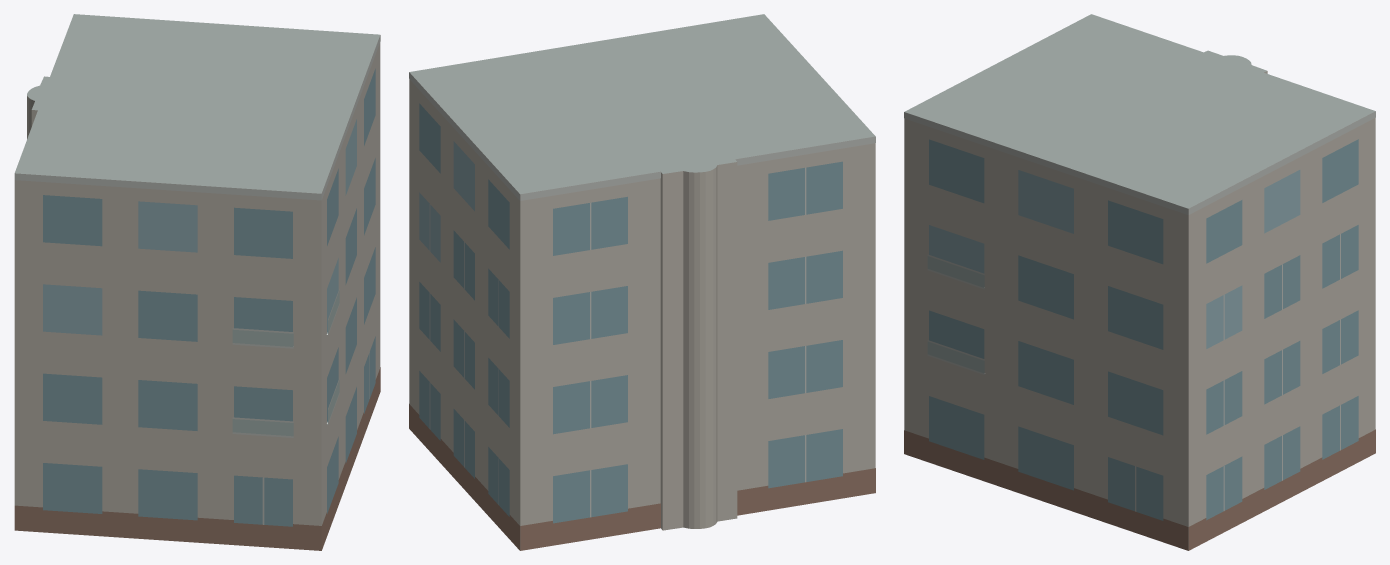
File: survey-upis-32708694.glb
The picture shows the model from 3 angles, left to right: view 1: azimuth 30°, elevation 25°; view 2: azimuth 150°, elevation 25°; view 3: azimuth 270°, elevation 25°; orthographic projection. The views are drawn at different scales.
Parts seen in each view (by area): view 1: survey-upis-32708694.tmp; view 2: survey-upis-32708694.tmp; view 3: survey-upis-32708694.tmp.
Boxes of the visible parts, x1,y1,x2,y2 form: survey-upis-32708694.tmp: (14,14,380,550); survey-upis-32708694.tmp: (409,14,875,550); survey-upis-32708694.tmp: (904,14,1375,550).
Size of the model in its own units: 15.88 by 13 by 16.25.
